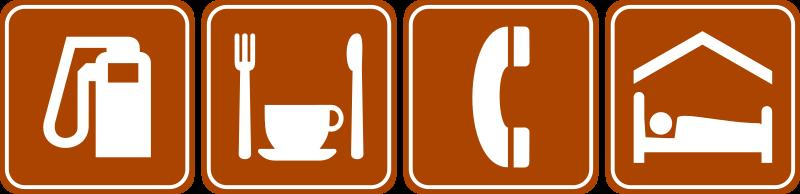Petrol Pump- Gas Station: (0, 0, 209, 194)
